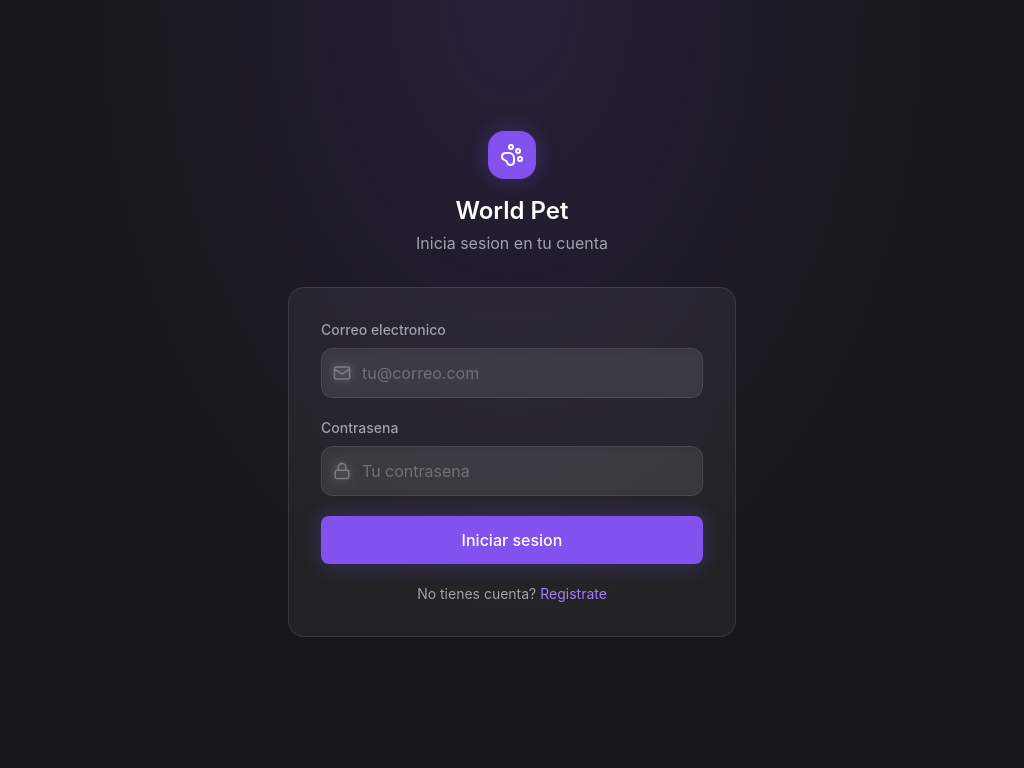
Test: Login › shows validation error for empty password
Click the password field with placeholder "Tu contrasena" at coordinates (512, 471), box [321,446,703,496]
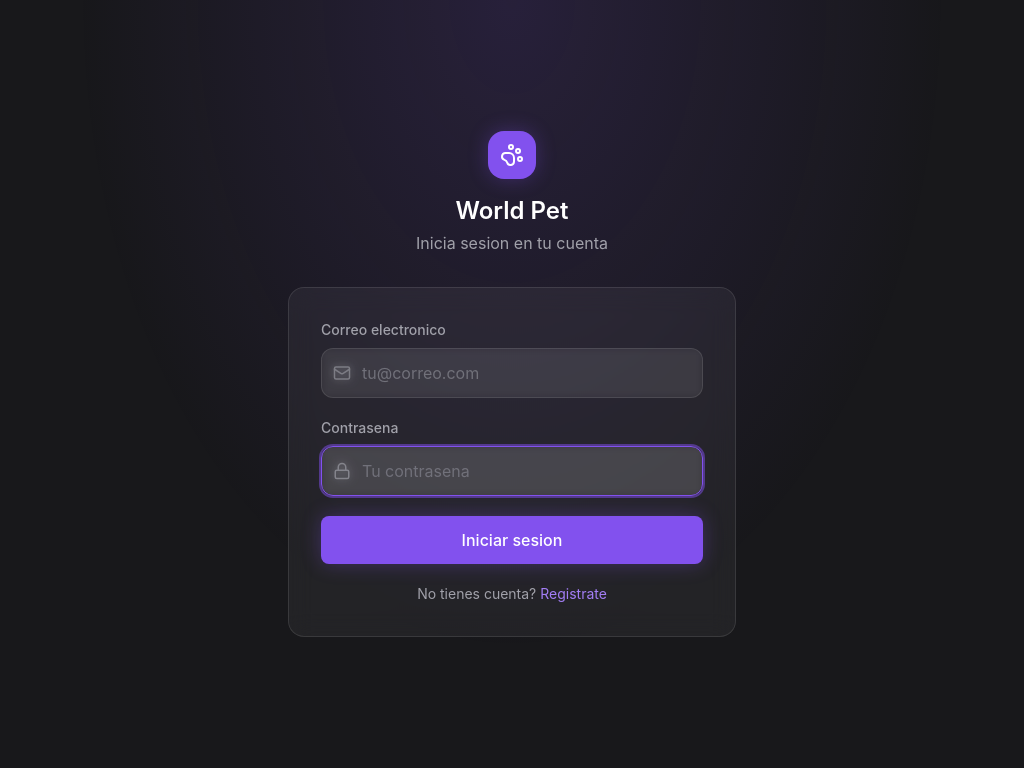
Press Tab
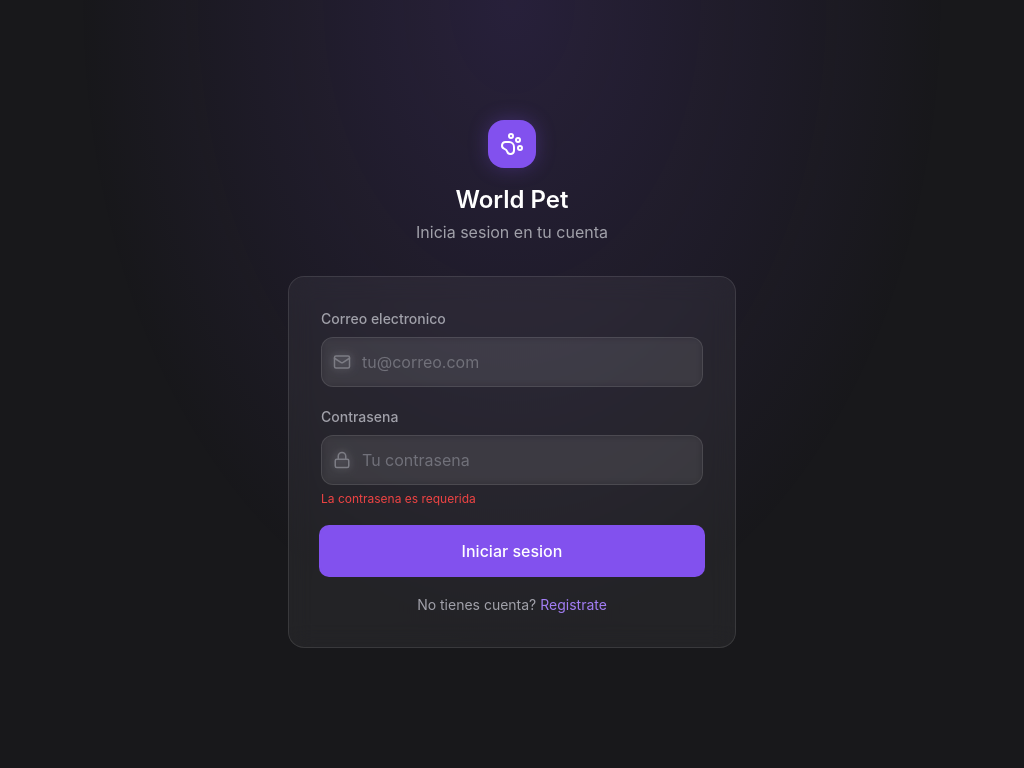
Result: the text "La contrasena es requerida" is shown at [321,491,476,506]
